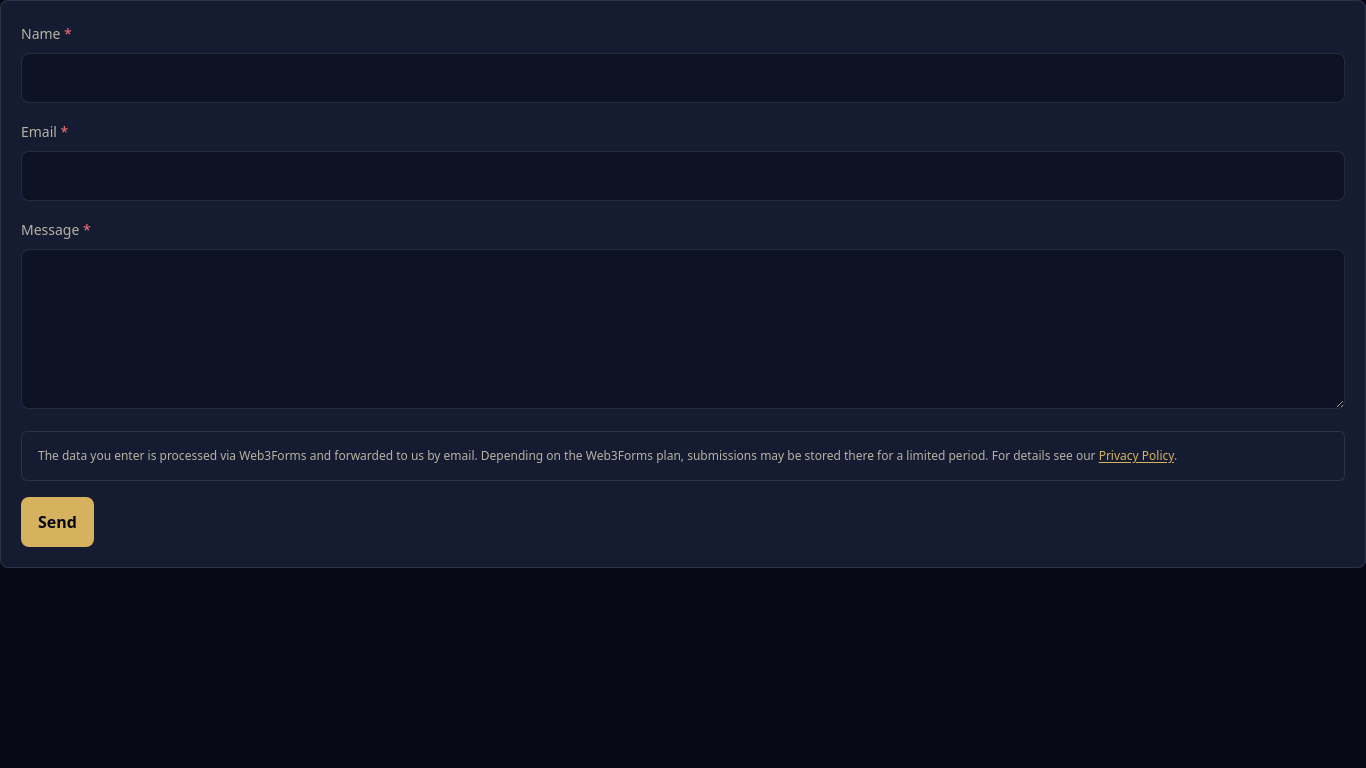
Test: ContactForm › shows validation errors and blocks submit for missing fields
The image size is (1366, 768).
Click the button "Send" at (57, 522), box [21,497,94,547]
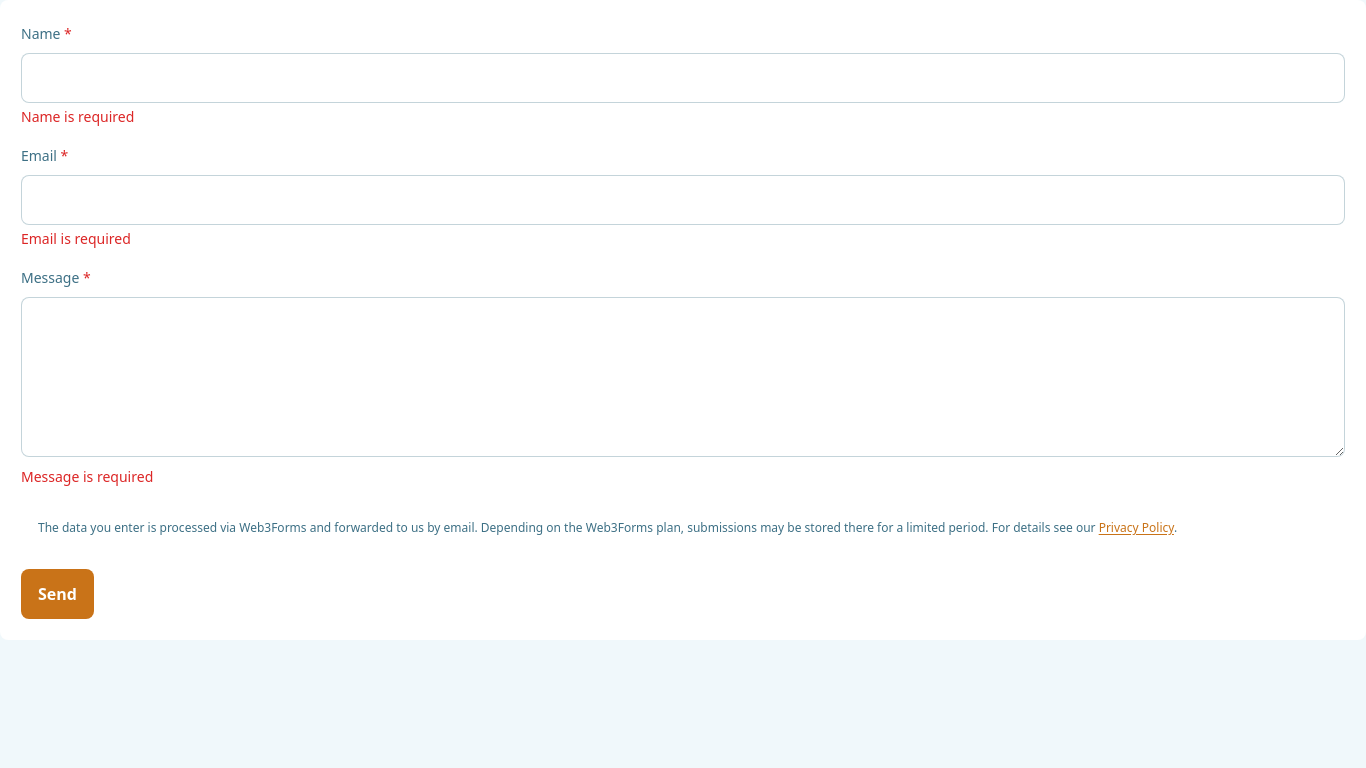
Result: the text "Name is required" is shown at [21,107,134,126]
Result: the text "Email is required" is shown at [21,229,131,248]
Result: the text "Message is required" is shown at [21,467,153,486]
